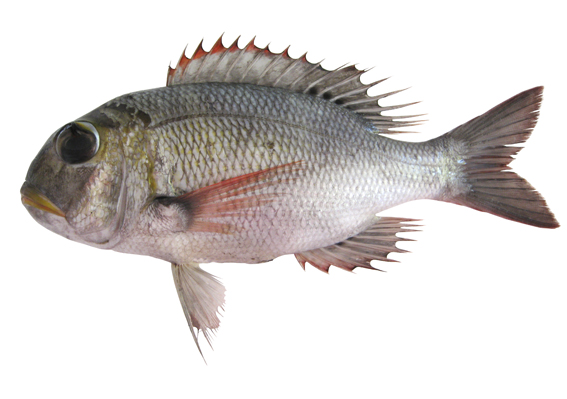fish: (20, 33, 562, 365)
